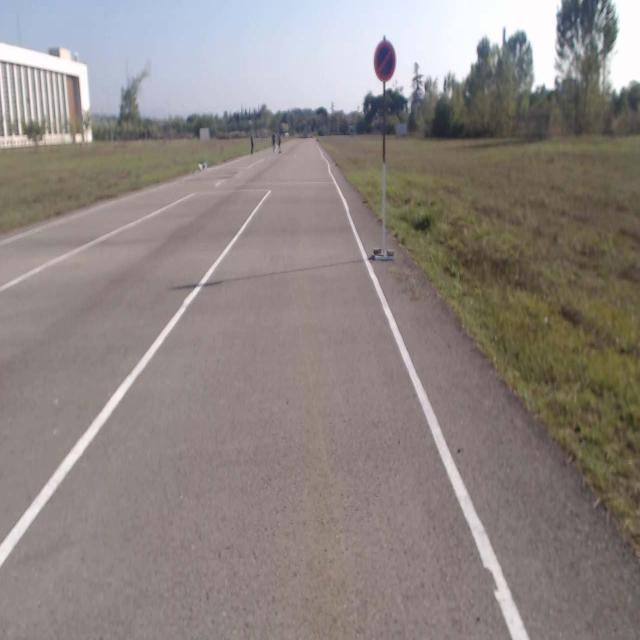parkyasak: (375, 40, 395, 80)
